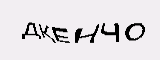Д: (19, 19, 39, 39)
Е: (51, 23, 69, 47)
Н: (75, 20, 99, 43)
О: (122, 19, 149, 46)
Ч: (100, 21, 121, 44)
Қ: (39, 22, 57, 43)
